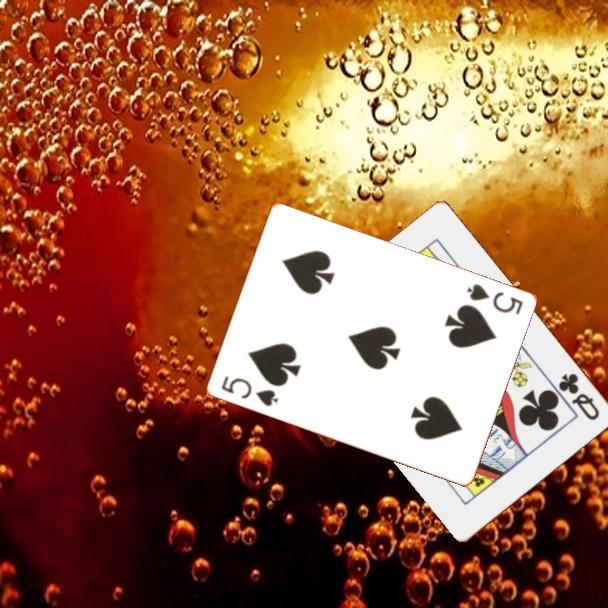c12: (555, 370, 603, 424)
s05: (463, 280, 525, 318), (217, 373, 281, 409)
